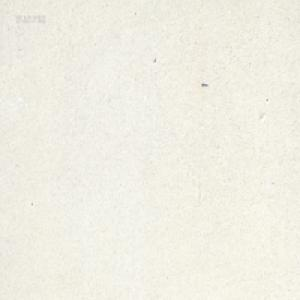Nail: (201, 81, 208, 87)
